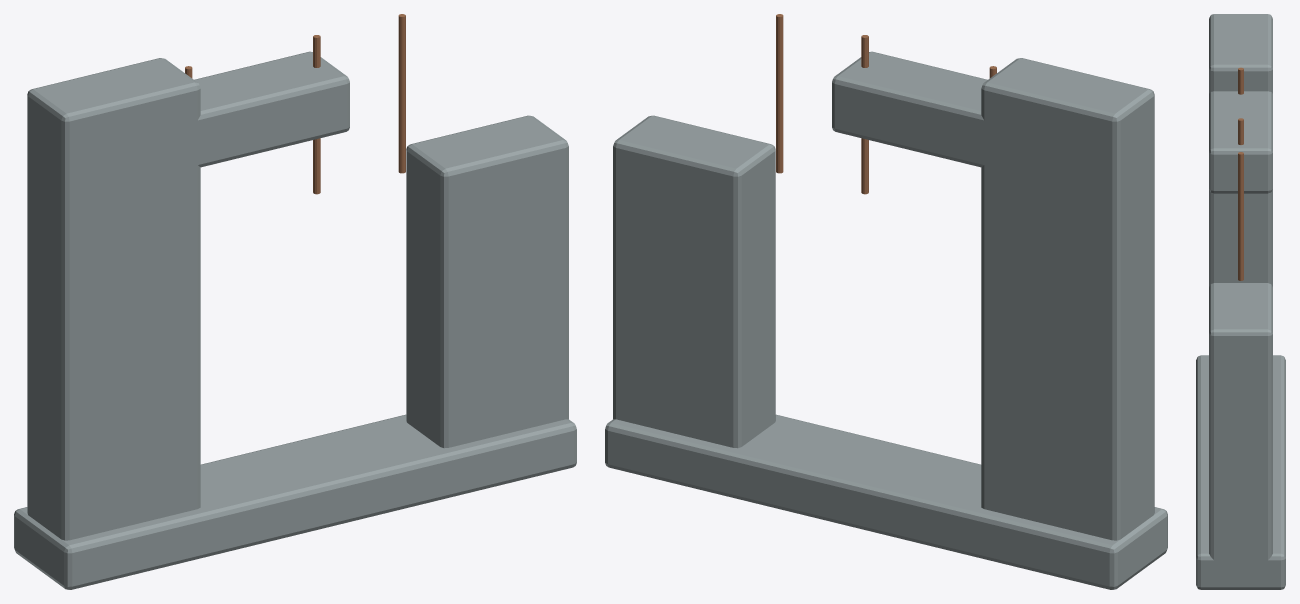
Rendered from wall.glb.
3 renders of one model, left to right at view 1: azimuth 30°, elevation 25°; view 2: azimuth 150°, elevation 25°; view 3: azimuth 270°, elevation 25°, orthographic. The views are drawn at different scales.
Visible parts, largest first — view 1: Left wall, Right wall, Concrete plinth, Broken header, Exposed rebar.002; view 2: Left wall, Right wall, Concrete plinth, Broken header, Exposed rebar.002; view 3: Right wall, Left wall, Concrete plinth, Broken header, Exposed rebar.002, Exposed rebar, Exposed rebar.001.
Part boxes in pixels (x1,y1,x2,y2): Left wall: (27, 58, 200, 540); Right wall: (406, 115, 568, 448); Concrete plinth: (14, 414, 576, 589); Broken header: (194, 51, 349, 167); Exposed rebar.002: (398, 14, 405, 173); Left wall: (981, 58, 1154, 540); Right wall: (613, 115, 775, 448); Concrete plinth: (605, 414, 1167, 589); Broken header: (832, 51, 987, 167); Exposed rebar.002: (776, 14, 783, 173); Right wall: (1209, 283, 1272, 569); Left wall: (1209, 14, 1272, 286); Concrete plinth: (1196, 355, 1285, 589); Broken header: (1209, 91, 1272, 193); Exposed rebar.002: (1238, 152, 1243, 280); Exposed rebar: (1238, 67, 1243, 94); Exposed rebar.001: (1238, 118, 1243, 144).
Size of the model in its own units: 2.4 by 2.1 by 0.45.
